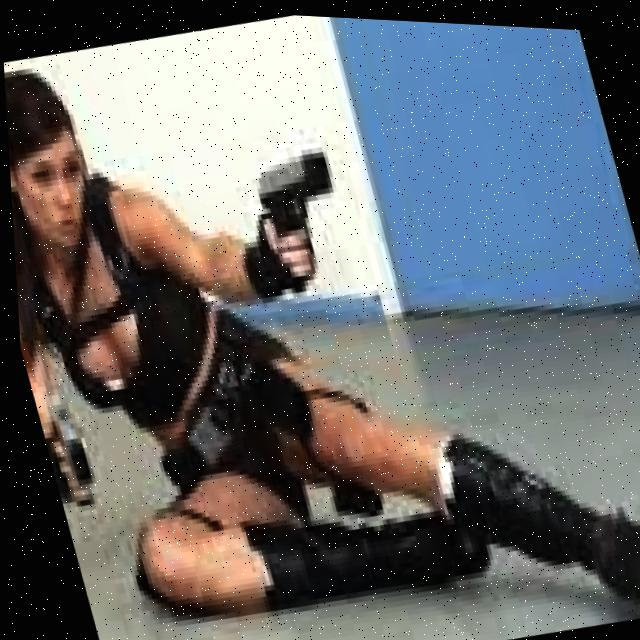pistol: (249, 144, 340, 233), (35, 390, 93, 490)
